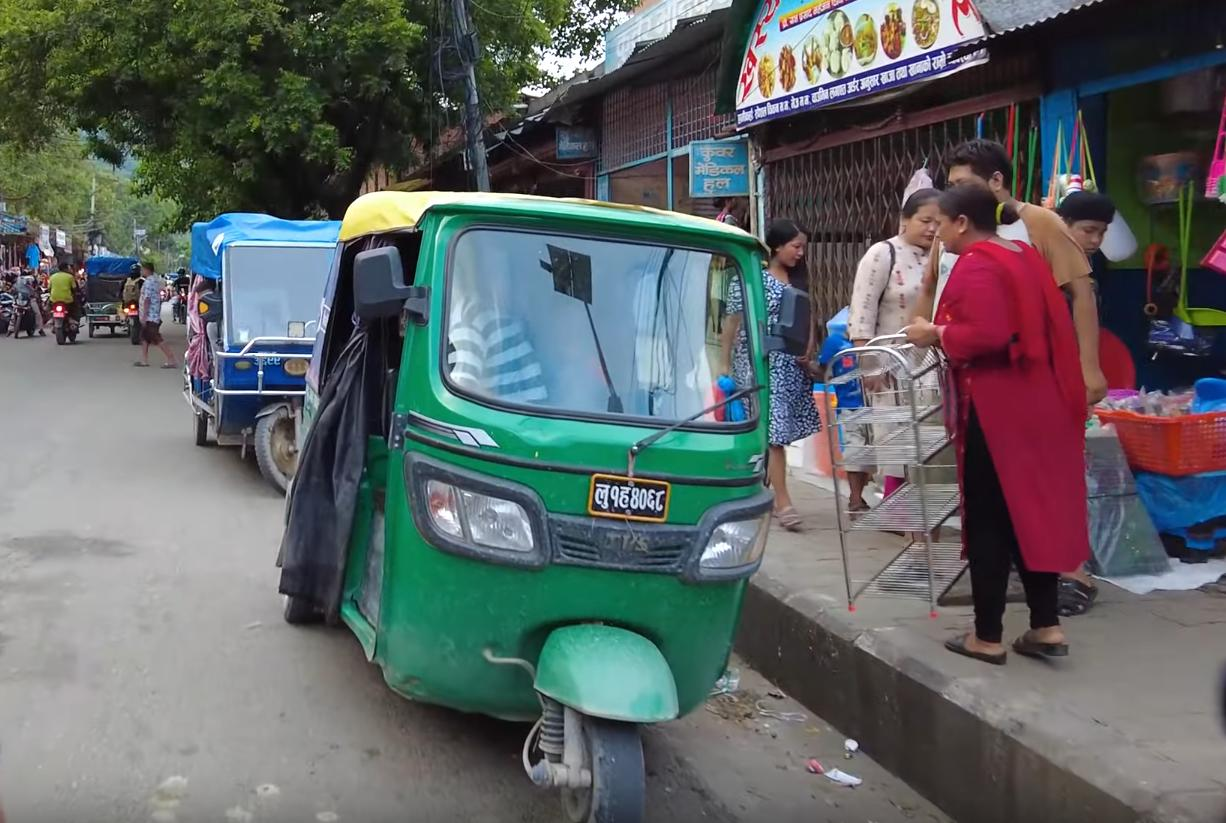auto_rickshaw: (272, 175, 795, 823)
e-rickshaw: (185, 213, 330, 499)
